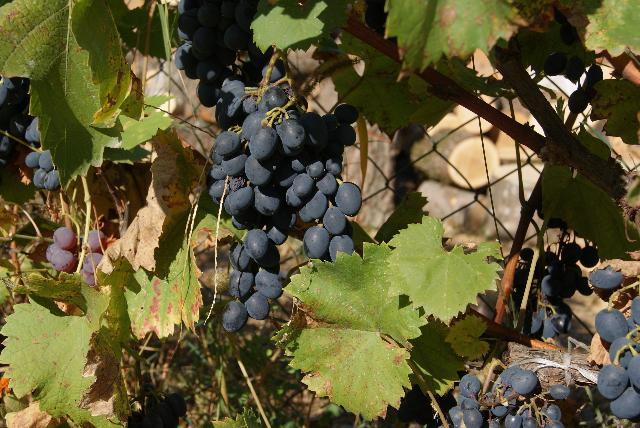grapes: (222, 105, 361, 331), (175, 0, 274, 108), (208, 79, 292, 199), (449, 358, 564, 428), (590, 260, 640, 421)
